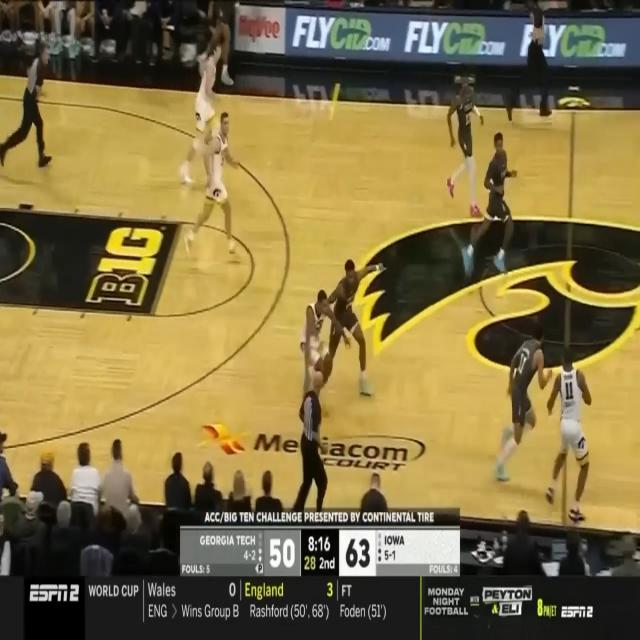Period: (319, 556, 336, 571)
Player: (496, 321, 554, 489), (183, 110, 242, 268), (322, 258, 386, 394), (460, 132, 518, 280), (546, 350, 594, 520), (176, 37, 221, 186), (300, 288, 351, 419), (445, 71, 485, 219)
Ref: (1, 44, 52, 168), (505, 0, 555, 122), (289, 368, 328, 508)
Shot Clock: (304, 554, 317, 572)
Team Name: (198, 532, 256, 548), (383, 532, 406, 546)
Team Points: (345, 534, 372, 570), (269, 536, 296, 571)
Time Remaining: (307, 535, 332, 554)
